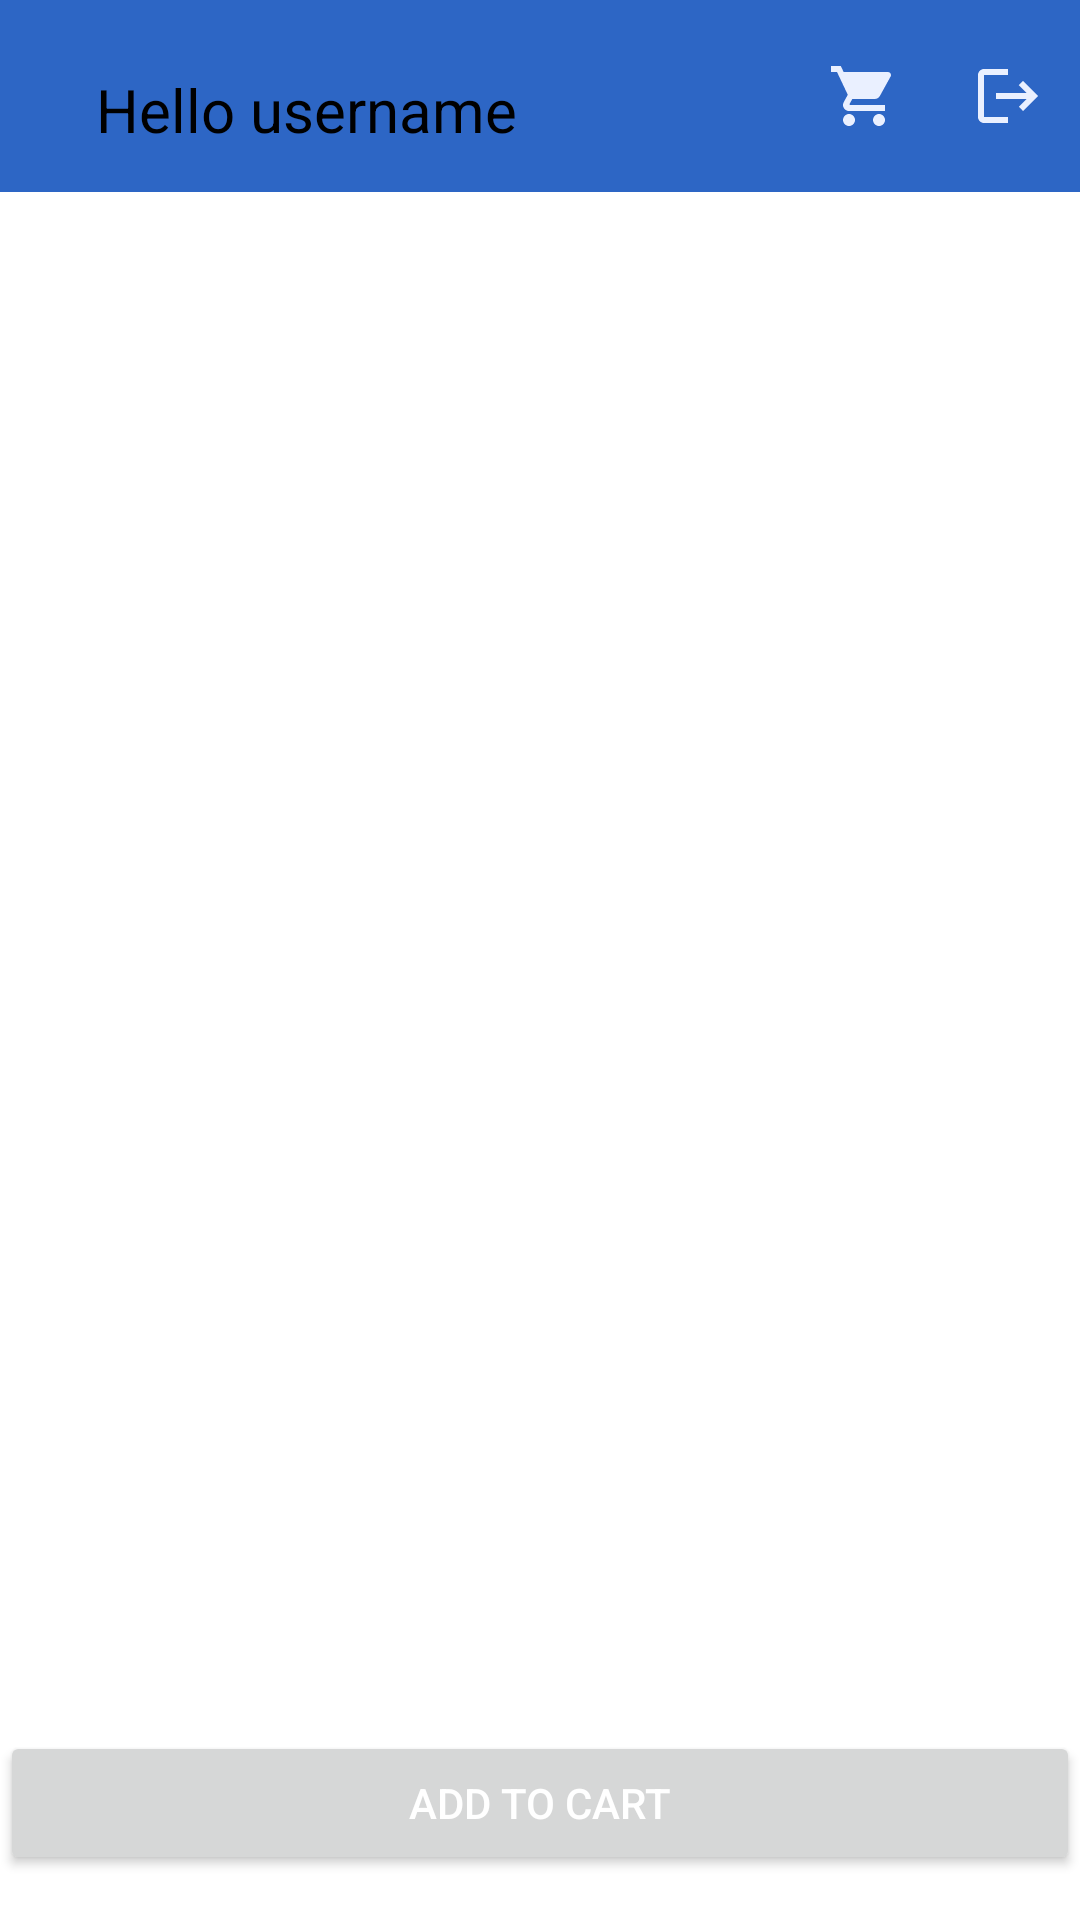

Screen size 1080*1920. Icon name, then its box in pixels as box(x1, y1, x2, y2):
shopping cart: box(831, 66, 891, 126)
